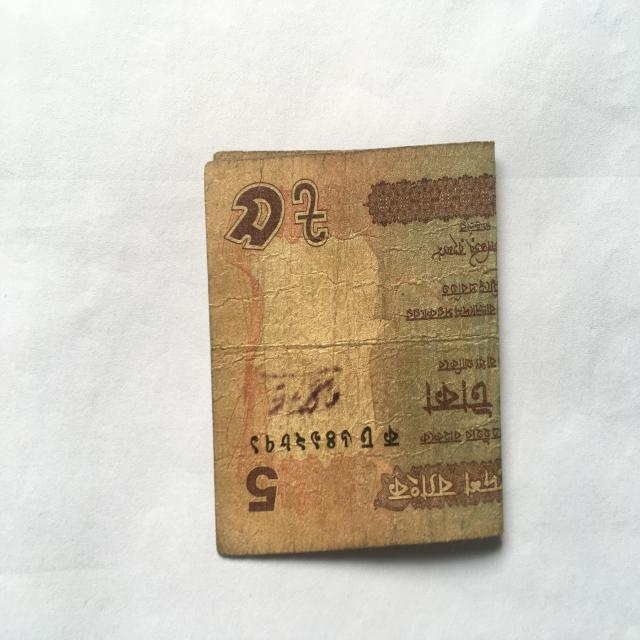Taka: (201, 145, 502, 549)
